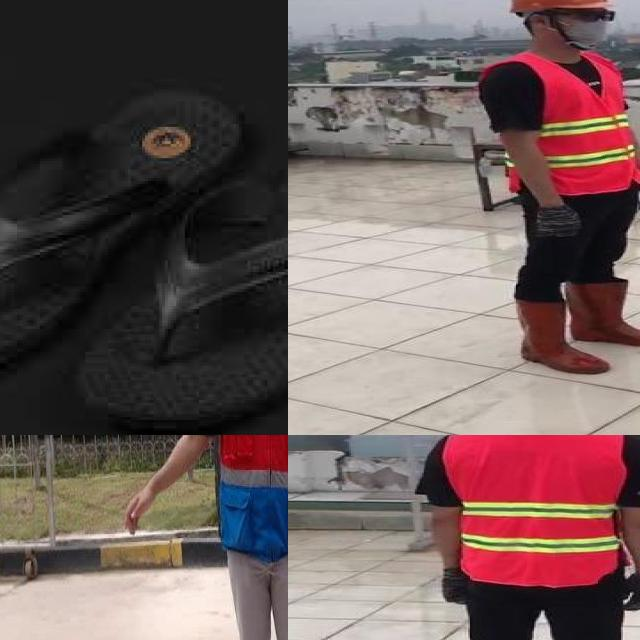Sandals: (0, 32, 288, 435)
boots: (502, 294, 612, 377), (565, 275, 640, 351)
face_mask: (555, 5, 616, 44)
glasses: (566, 6, 622, 25)
hand_glove: (530, 206, 586, 240), (440, 566, 470, 606), (624, 571, 640, 613)
head_helmet: (502, 0, 611, 11)
person: (471, 0, 640, 376), (418, 435, 640, 640), (114, 435, 288, 640)
vest: (441, 435, 626, 583), (484, 57, 640, 195), (209, 435, 288, 554)
